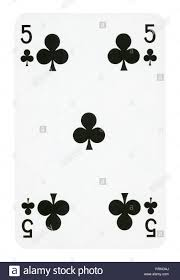five of clubs: (15, 14, 166, 247)
